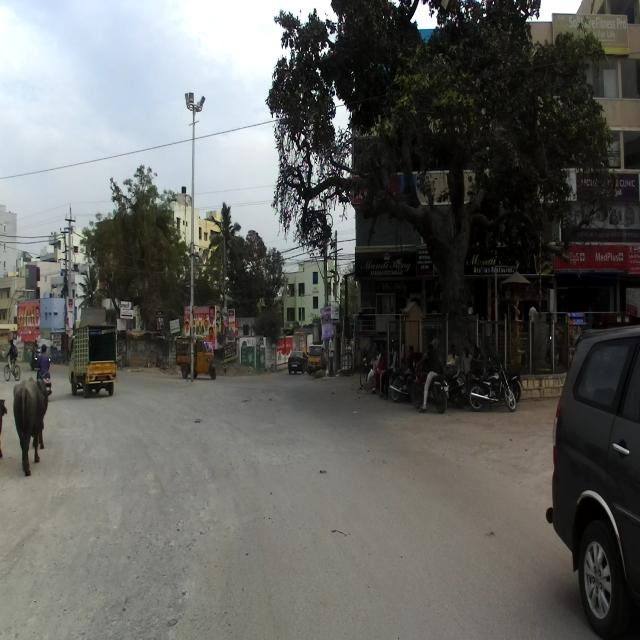car ahead at: (546, 324, 640, 634)
cattle ahead at: (13, 368, 48, 477)
tree ahead at: (371, 55, 539, 334)
truck ahead at: (69, 323, 123, 403)
